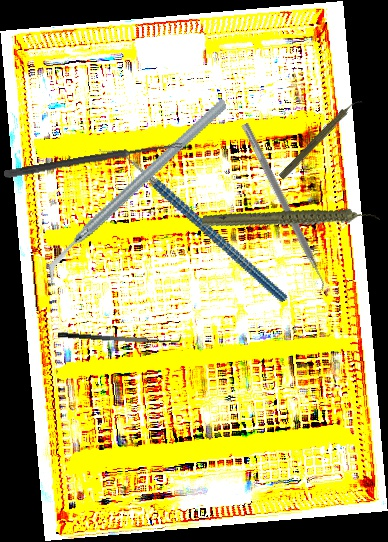Chopper: (9, 97, 264, 286), (97, 104, 289, 345)
Handpiece: (200, 178, 382, 263), (277, 94, 364, 183)
Spatula Surgical: (234, 122, 332, 294), (57, 321, 182, 349)
Surgical Spoon: (3, 139, 183, 180)
